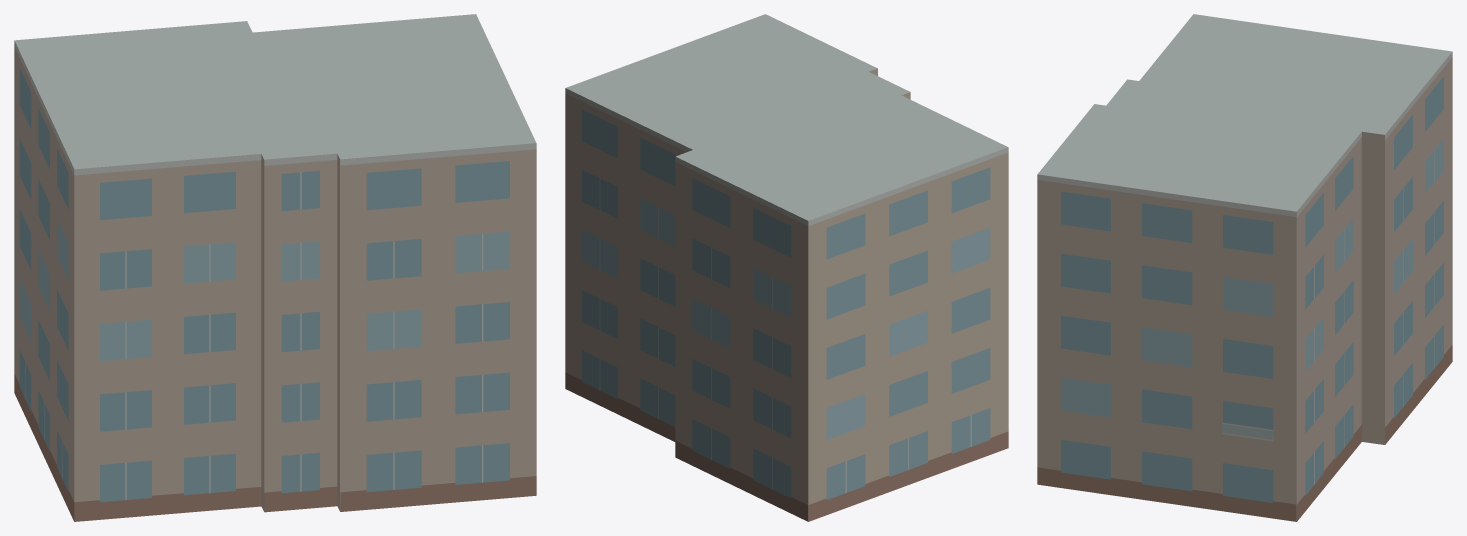
Rendered from survey-upis-32990331.glb.
3 renders of one model, left to right at view 1: azimuth 30°, elevation 25°; view 2: azimuth 150°, elevation 25°; view 3: azimuth 270°, elevation 25°, orthographic. The views are drawn at different scales.
Visible parts, largest first — view 1: survey-upis-32990331.tmp; view 2: survey-upis-32990331.tmp; view 3: survey-upis-32990331.tmp.
Part boxes in pixels (x1=…): survey-upis-32990331.tmp: x1=14, y1=14, x2=536, y2=521; survey-upis-32990331.tmp: x1=565, y1=14, x2=1008, y2=521; survey-upis-32990331.tmp: x1=1037, y1=14, x2=1452, y2=521.
Bounding box in the file's own units: 19.01 × 13.9 × 16.87.
